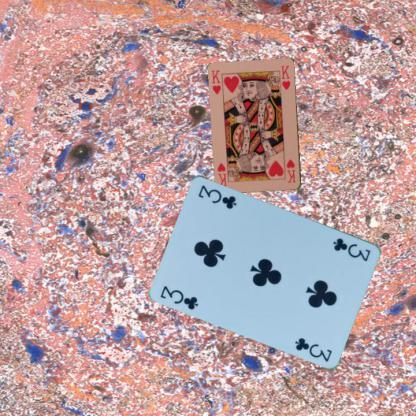3c: (158, 282, 200, 311), (330, 235, 373, 262)
Kh: (209, 67, 223, 96), (284, 156, 298, 184)
